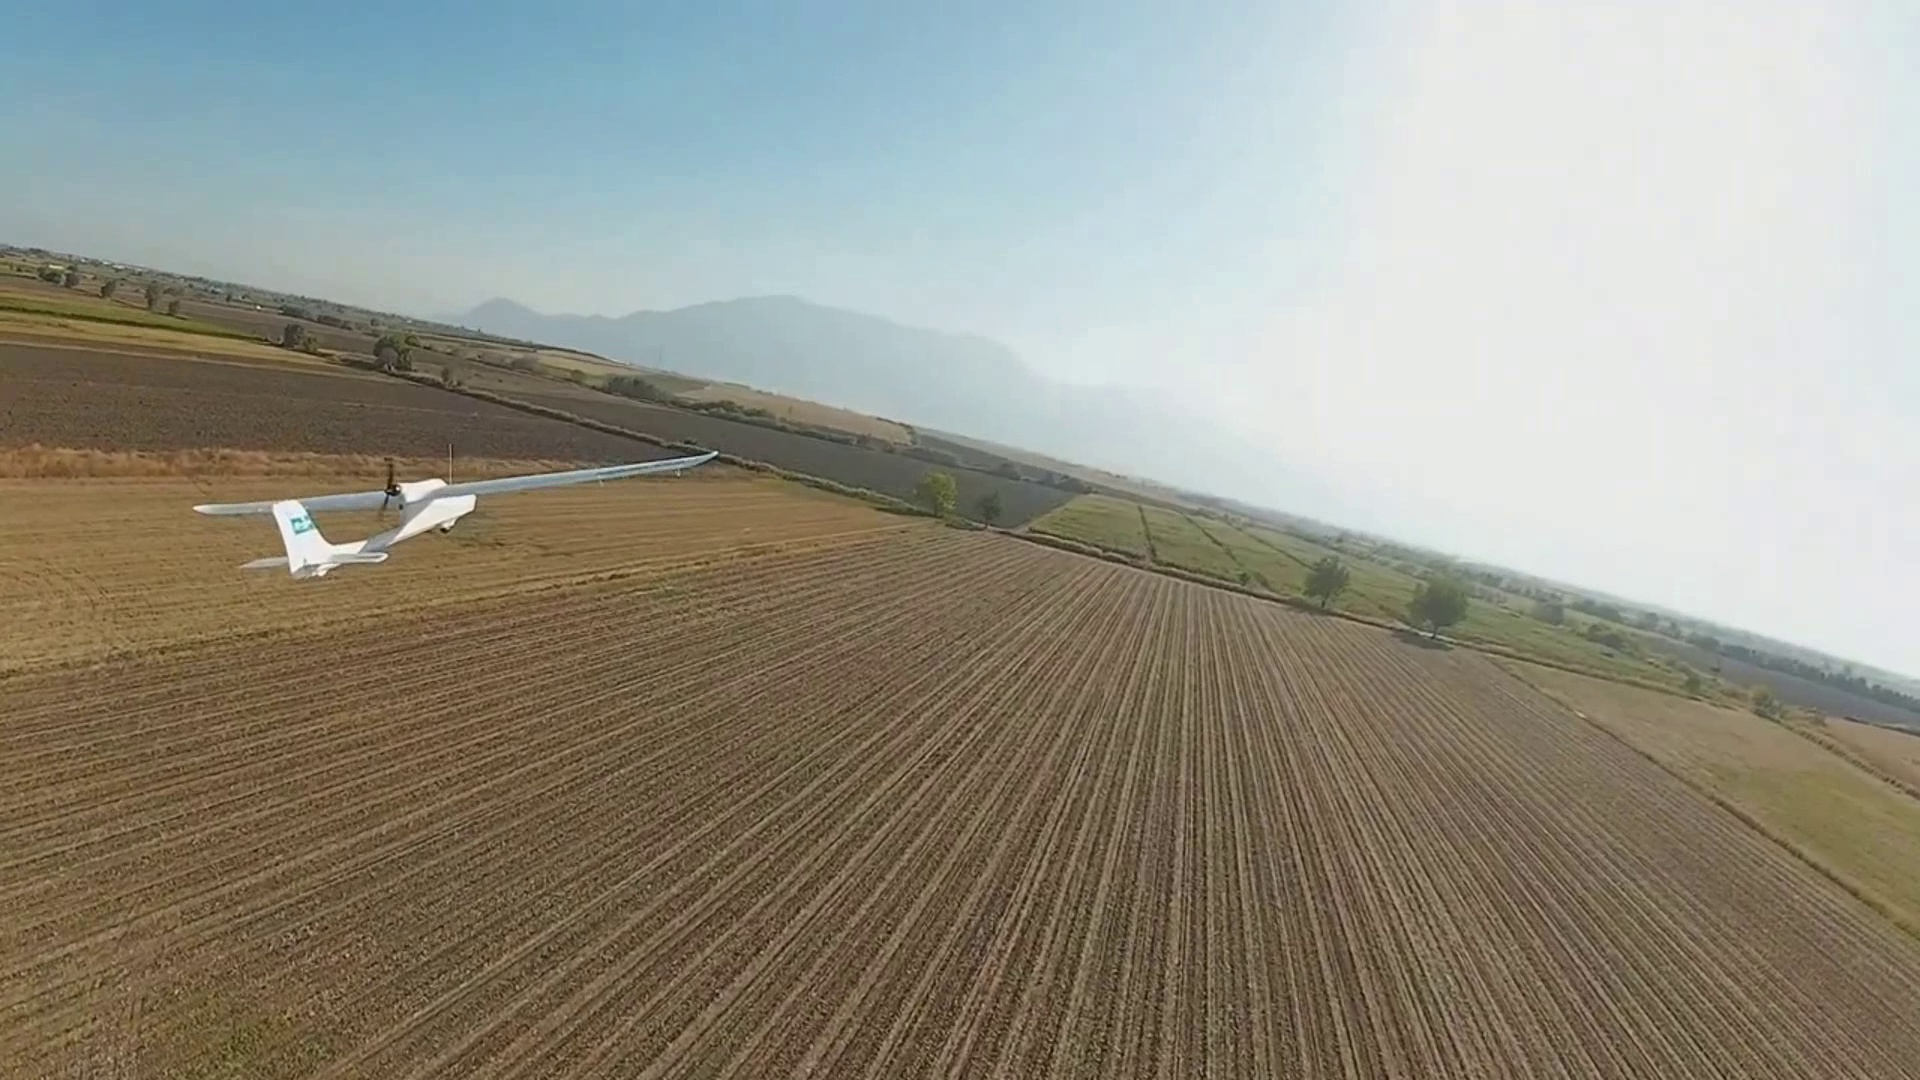airplane: (193, 450, 708, 575), (193, 462, 480, 578)
